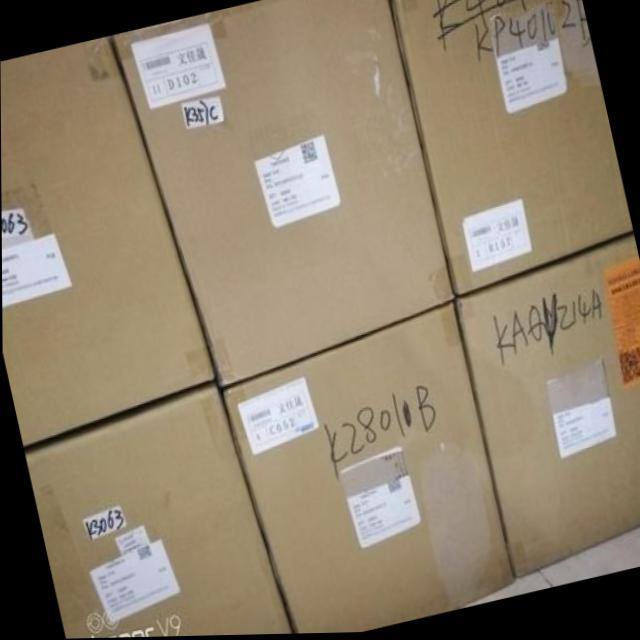box: (112, 0, 453, 390), (219, 301, 513, 635), (0, 36, 214, 447), (390, 0, 633, 297), (25, 380, 291, 639), (454, 237, 640, 582)
